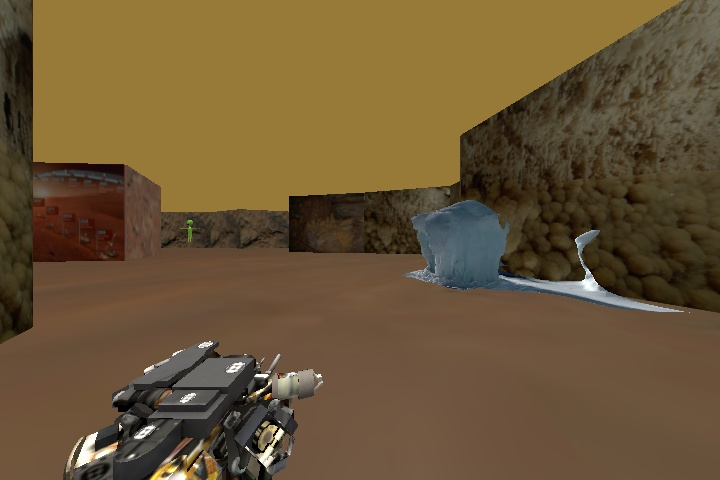alien: (180, 217, 201, 247)
minerals: (402, 198, 508, 293)
